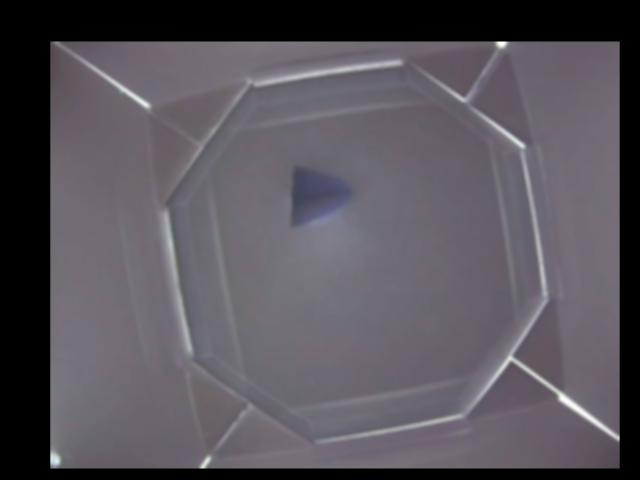Mooli: (287, 163, 354, 228)
